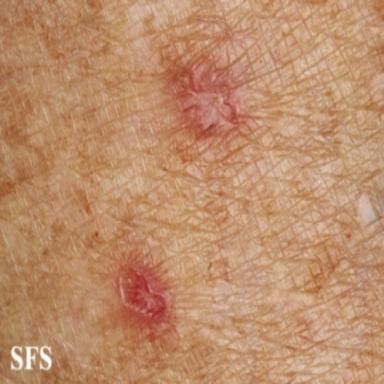Porokeratosis: (166, 59, 239, 139), (118, 262, 167, 319)
